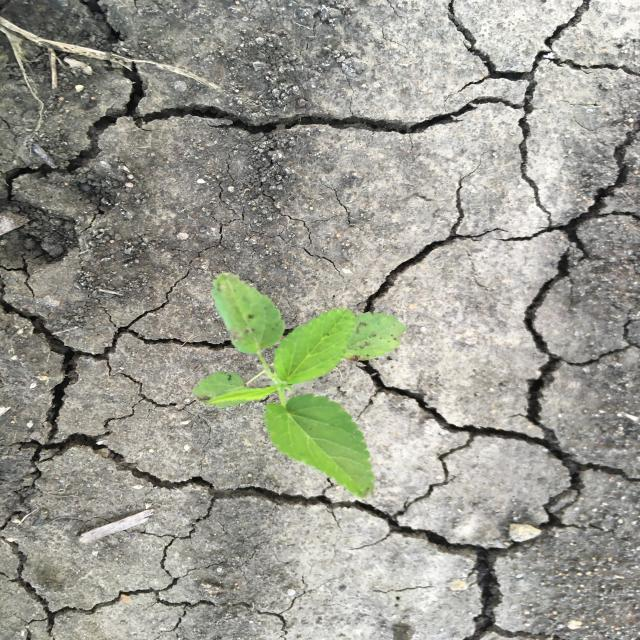PricklySida: (190, 272, 408, 498)
